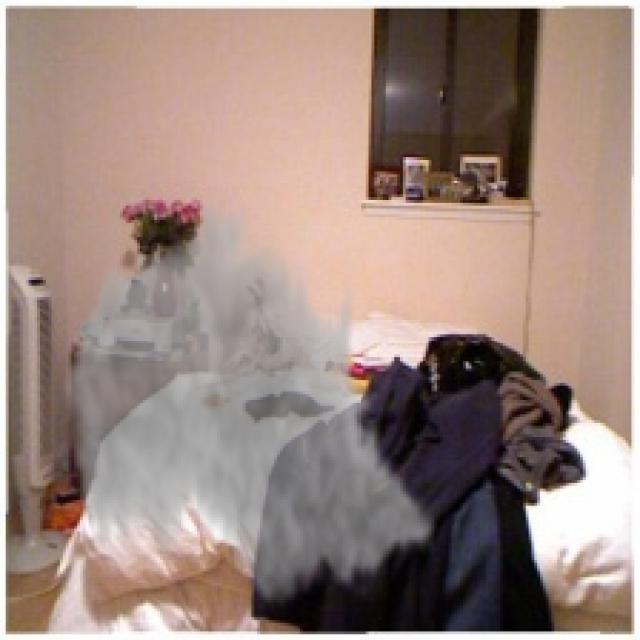smoke: (60, 192, 440, 617)
